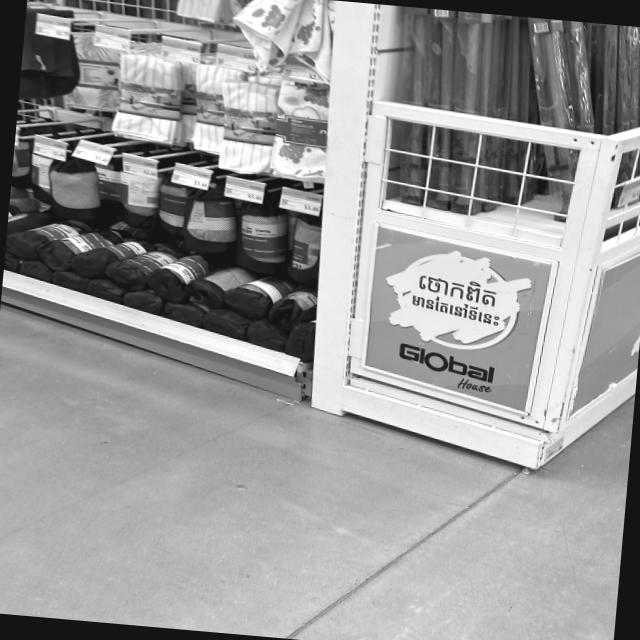Yolov11kh: (407, 265, 503, 309), (402, 290, 504, 331)
